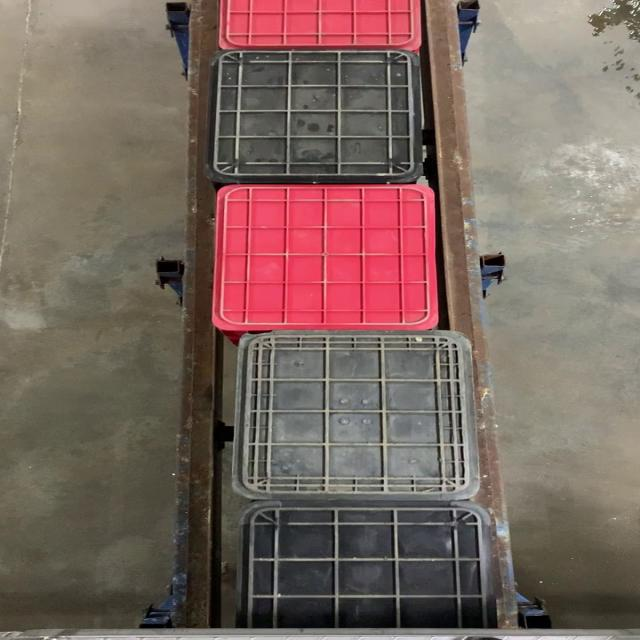Box: (230, 330, 476, 500), (210, 188, 442, 330), (210, 47, 426, 185)
